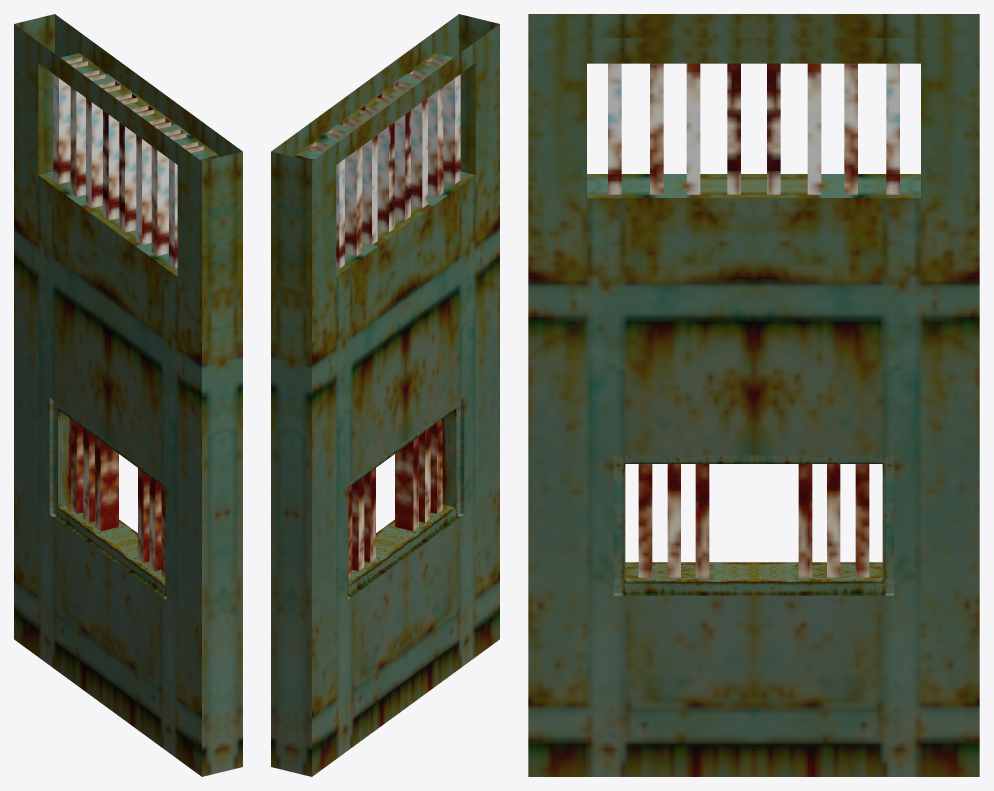
File: door.glb
3 renders of one model, left to right at view 1: azimuth 30°, elevation 25°; view 2: azimuth 150°, elevation 25°; view 3: azimuth 270°, elevation 25°, orthographic. The views are drawn at different scales.
Visible parts, largest first — view 1: door, door.001; view 2: door, door.001; view 3: door, door.001.
Boxes of the visible parts, left/top/right/bottom form: door: left=14, top=14, right=242, bottom=776; door.001: left=49, top=398, right=166, bottom=599; door: left=271, top=14, right=499, bottom=776; door.001: left=347, top=398, right=464, bottom=599; door: left=528, top=14, right=979, bottom=776; door.001: left=613, top=455, right=894, bottom=595.
Size of the model in its own units: 0.1764 by 2.54 by 1.4.
2 materials, 2 textured.
